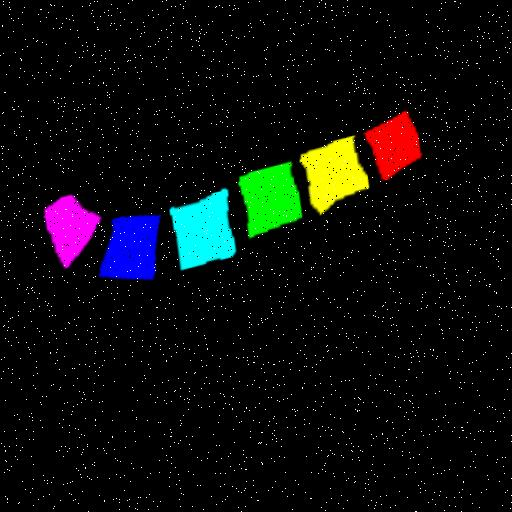L1: (366, 116, 423, 184)
L2: (302, 140, 371, 217)
L3: (241, 164, 305, 240)
L4: (173, 192, 239, 272)
L5: (103, 218, 162, 280)
S1: (46, 195, 104, 269)
